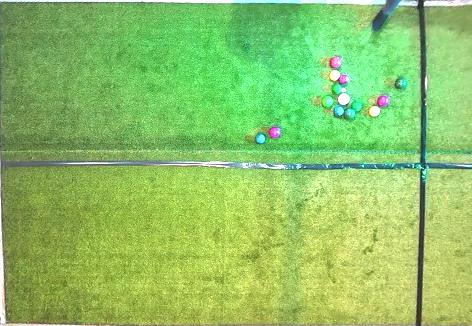blue: (255, 133, 266, 144), (334, 106, 344, 117)
green: (321, 95, 334, 108), (344, 108, 356, 120), (395, 78, 407, 90), (352, 100, 362, 112), (332, 83, 342, 95)
red: (377, 95, 390, 107), (337, 93, 350, 105), (269, 126, 281, 138), (330, 57, 342, 68), (338, 75, 349, 84)
vline: (415, 1, 472, 325), (0, 1, 10, 325)
white: (341, 88, 346, 92)
yellow: (329, 70, 340, 81), (369, 106, 380, 117)
